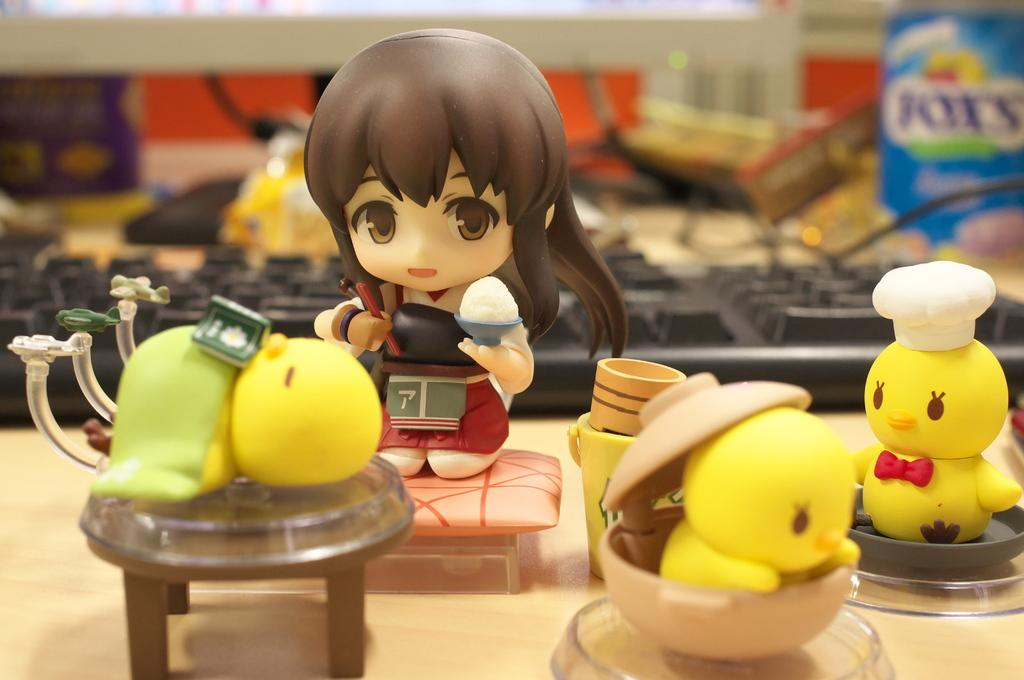Sem Máscara: (342, 146, 511, 289)
